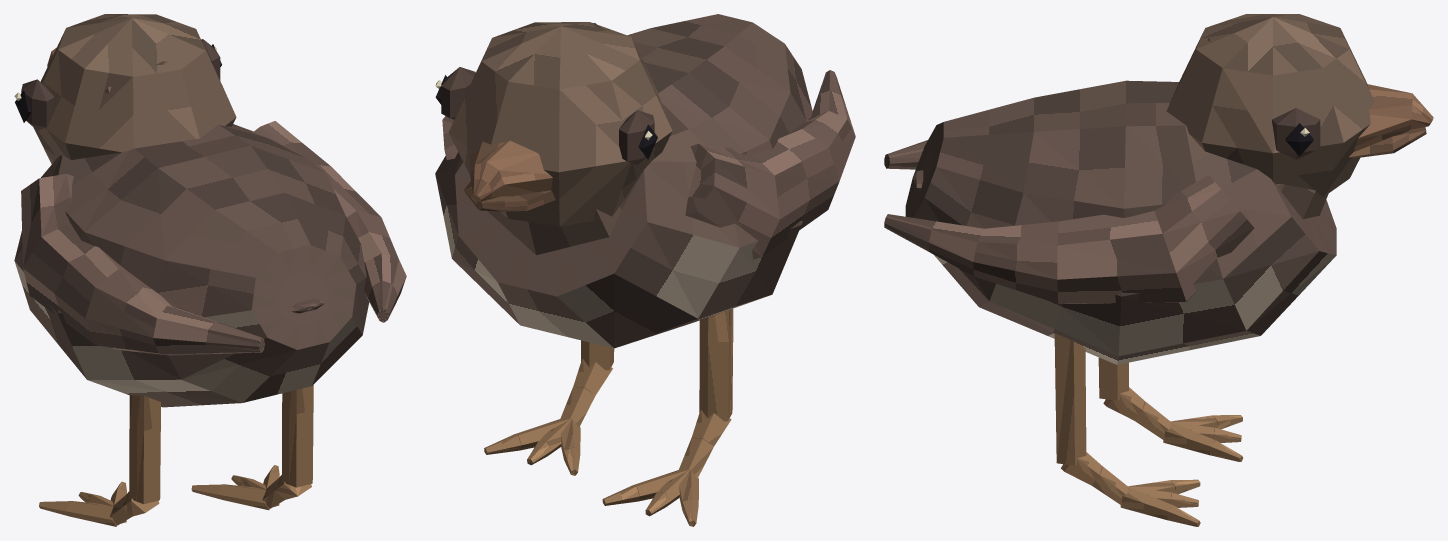
Rendered from mon_crow_chick.glb.
3 renders of one model, left to right at view 1: azimuth 30°, elevation 25°; view 2: azimuth 150°, elevation 25°; view 3: azimuth 270°, elevation 25°, orthographic. The views are drawn at different scales.
Visible parts, largest first — view 1: closed_body; view 2: closed_body; view 3: closed_body.
Boxes of the visible parts, x1,y1,x2,y2 form: closed_body: [14, 14, 406, 526]; closed_body: [435, 14, 855, 526]; closed_body: [884, 14, 1433, 526].
Size of the model in its own units: 0.066 by 0.0915 by 0.0993.
1 material, 1 textured.
